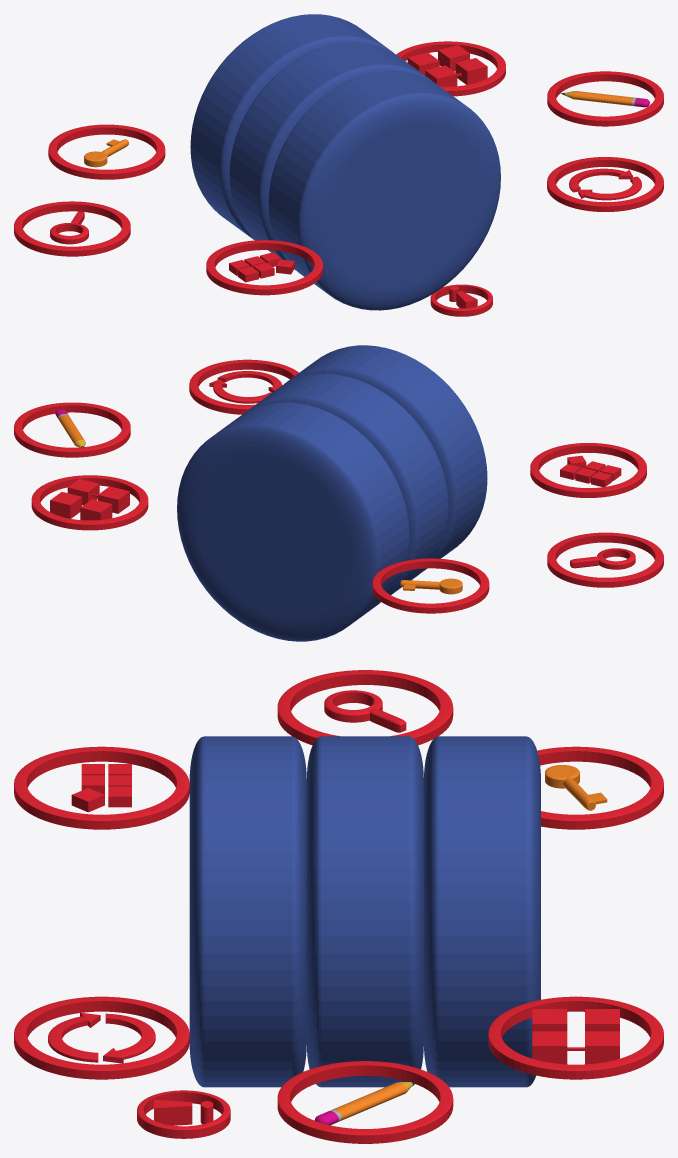
Rendered from consultas.obj.
3 renders of one model, top to bottom at view 1: azimuth 30°, elevation 25°; view 2: azimuth 150°, elevation 25°; view 3: azimuth 270°, elevation 25°, orthographic. The views are drawn at different scales.
Parts seen in each view (by area): view 1: group_0_3888547, group_0_15277357, group_0_16089887; view 2: group_0_3888547, group_0_15277357, group_0_16089887; view 3: group_0_3888547, group_0_15277357, group_0_16089887.
Boxes of the visible parts, x1,y1,x2,y2 form: group_0_3888547: [190, 14, 500, 310]; group_0_15277357: [14, 41, 663, 316]; group_0_16089887: [84, 91, 633, 167]; group_0_3888547: [177, 345, 487, 641]; group_0_15277357: [14, 359, 663, 613]; group_0_16089887: [58, 415, 462, 594]; group_0_3888547: [189, 736, 540, 1087]; group_0_15277357: [14, 670, 663, 1143]; group_0_16089887: [333, 765, 607, 1120].
Bounding box in the file's own units: 94 × 31 × 55.5.
